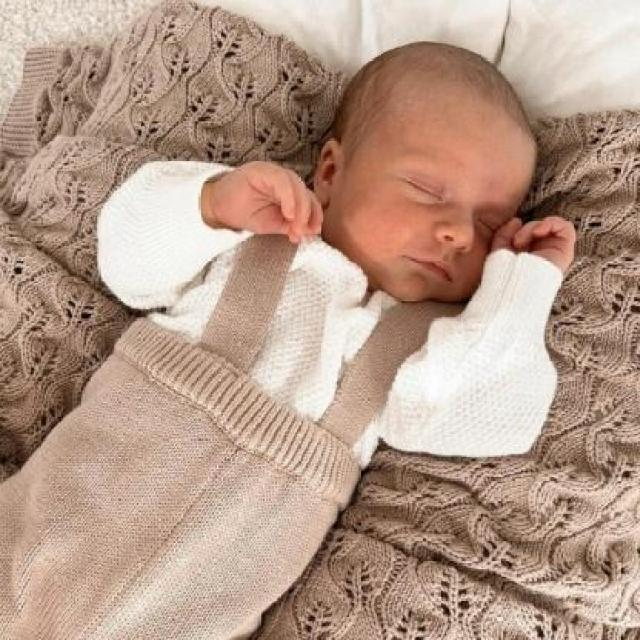baby: (0, 41, 575, 640)
